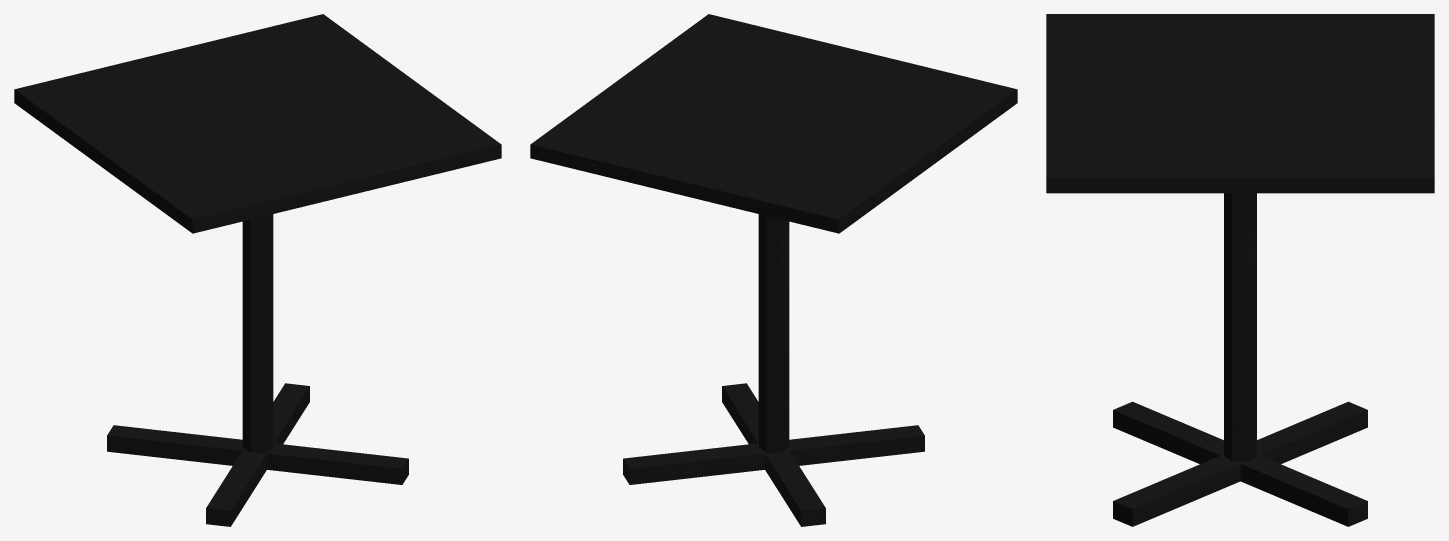
File: SM_Molo_TavoloNero_LOD1.fbx
3 renders of one model, left to right at view 1: azimuth 30°, elevation 25°; view 2: azimuth 150°, elevation 25°; view 3: azimuth 270°, elevation 25°, orthographic. The views are drawn at different scales.
Visible parts, largest first — view 1: SM_Molo_TavoloNero_LOD1; view 2: SM_Molo_TavoloNero_LOD1; view 3: SM_Molo_TavoloNero_LOD1.
Boxes of the visible parts, x1,y1,x2,y2 form: SM_Molo_TavoloNero_LOD1: (14, 14, 501, 526); SM_Molo_TavoloNero_LOD1: (530, 14, 1017, 526); SM_Molo_TavoloNero_LOD1: (1046, 14, 1434, 526).
Size of the model in its own units: 70 by 70 by 75.
1 material, 1 textured.
